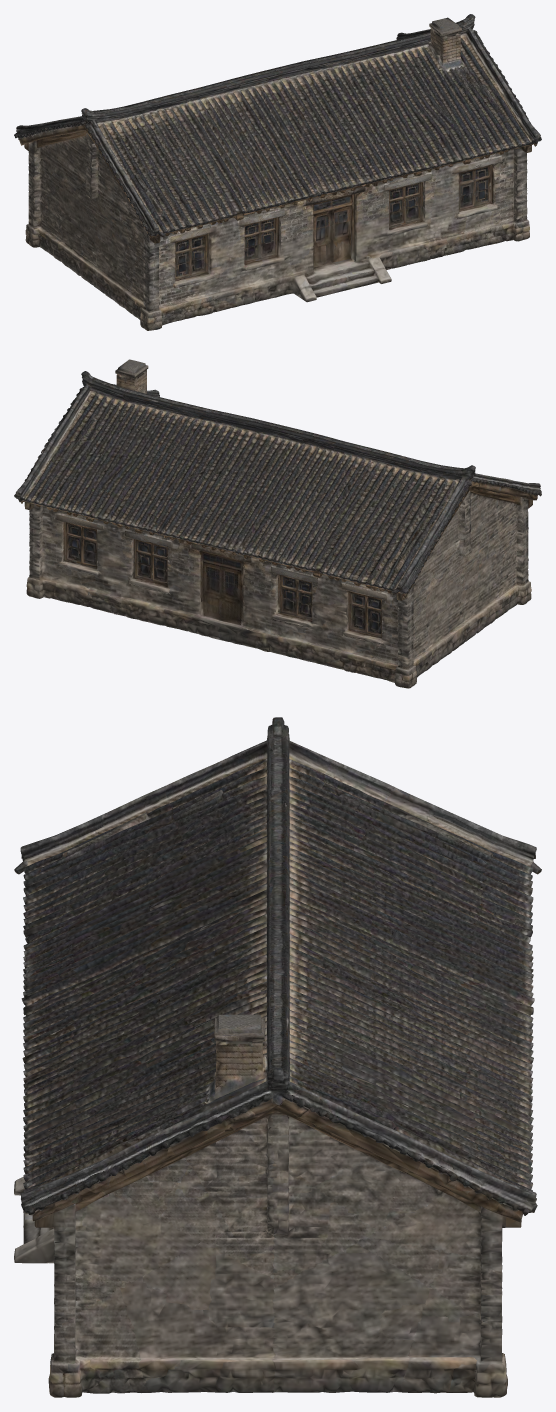
File: bq_house_stone.glb
3 views of the same model, one above another, from view 1: azimuth 30°, elevation 25°; view 2: azimuth 150°, elevation 25°; view 3: azimuth 270°, elevation 25° (orthographic). The views are drawn at different scales.
Size of the model in its own units: 1.9 by 0.8579 by 1.19.
1 material, 1 textured.
